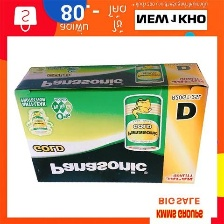book: (13, 57, 213, 188)
